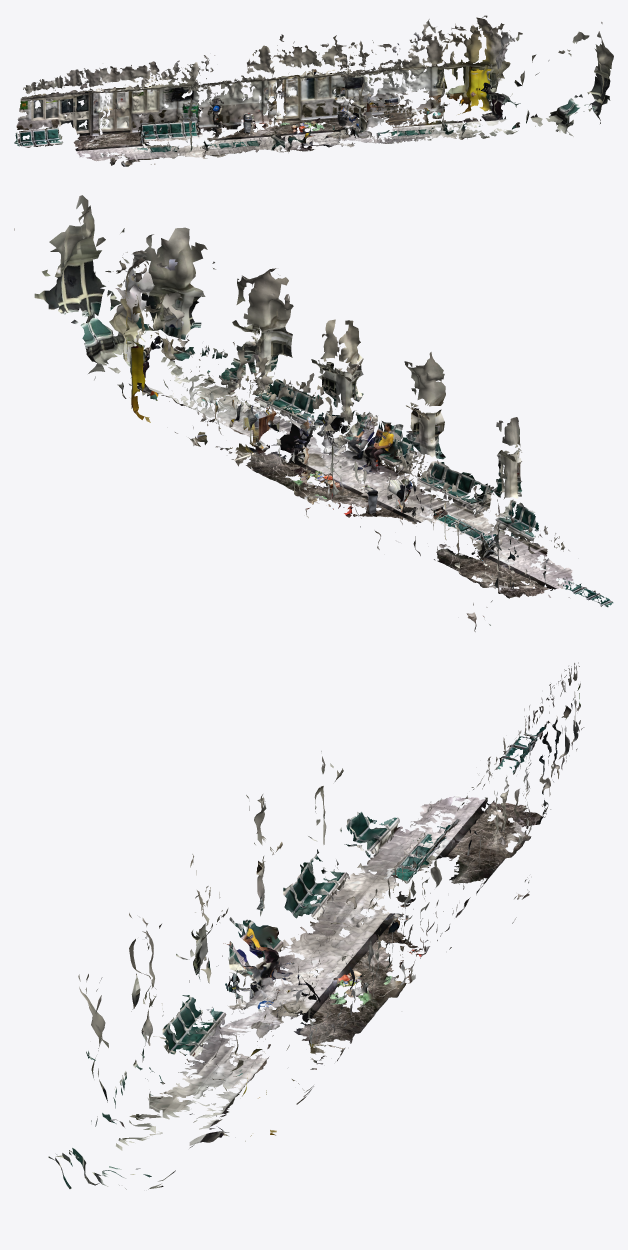
Rendered from 139863-polirvs2-tex.glb.
The picture shows the model from 3 angles, top to bottom: view 1: azimuth 30°, elevation 25°; view 2: azimuth 150°, elevation 25°; view 3: azimuth 270°, elevation 25°; orthographic projection. The views are drawn at different scales.
Visible parts, largest first — view 1: Node; view 2: Node; view 3: Node.
Part boxes in pixels (left/top/right/bottom): Node: left=14, top=15, right=613, bottom=166; Node: left=14, top=195, right=613, bottom=631; Node: left=48, top=662, right=584, bottom=1189.
Bounding box in the file's own units: 22.95 × 5.79 × 10.92.
Materials: 29 (29 with a texture image).
